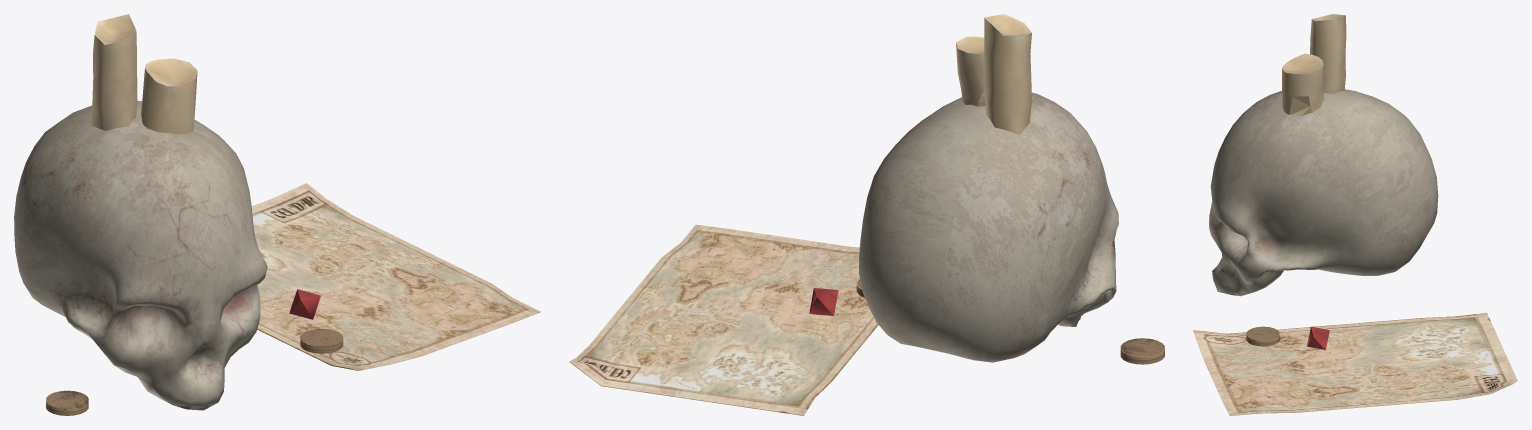
Rendered from skull_candle.glb.
3 views of the same model, side by side, from view 1: azimuth 30°, elevation 25°; view 2: azimuth 150°, elevation 25°; view 3: azimuth 270°, elevation 25° (orthographic). The views are drawn at different scales.
Visible parts, largest first — view 1: Skull_LP; view 2: Skull_LP; view 3: Skull_LP.
Boxes of the visible parts, x1,y1,x2,y2 form: Skull_LP: [14, 14, 540, 415]; Skull_LP: [569, 14, 1164, 415]; Skull_LP: [1193, 14, 1517, 415].
Bounding box in the file's own units: 1.5 × 1.04 × 1.13.
2 materials, 2 textured.
